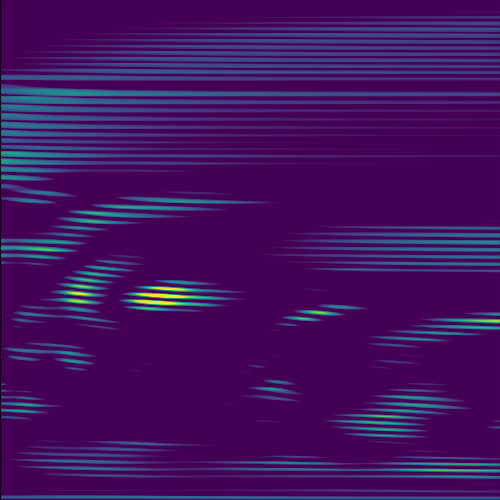semblance: (122, 279, 244, 319)
